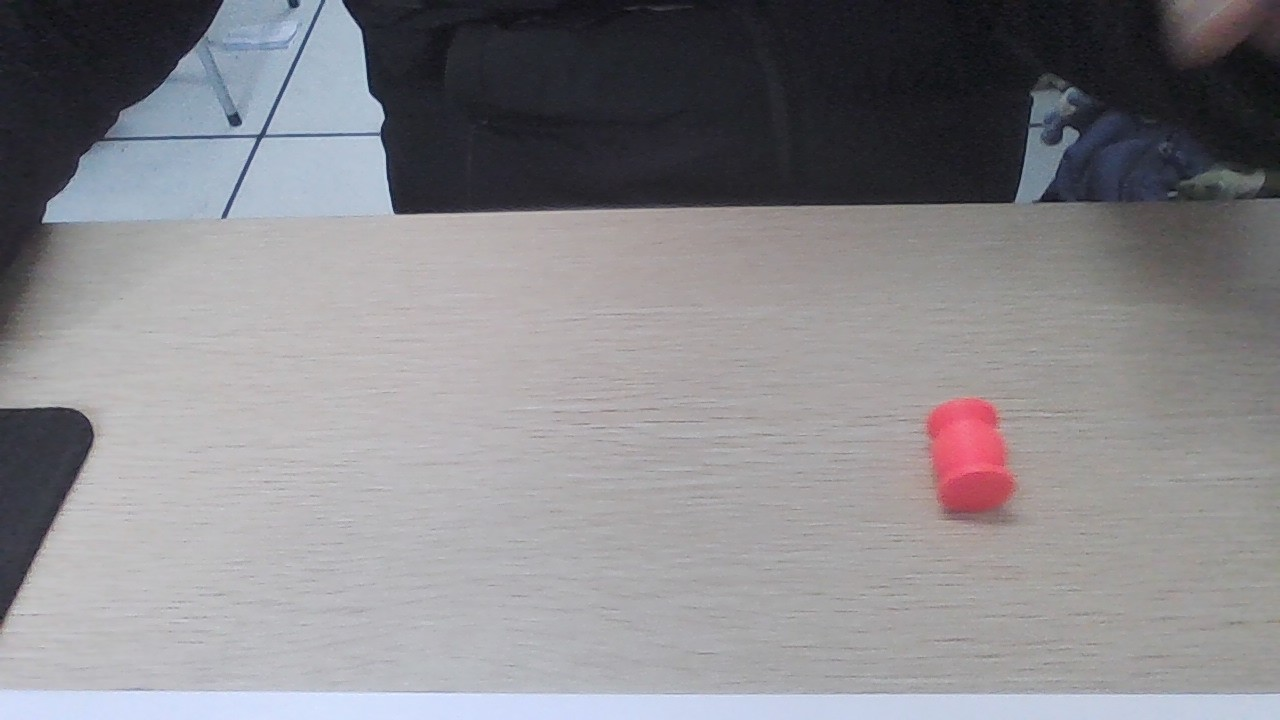KHS-plastic: (924, 400, 1011, 502)
